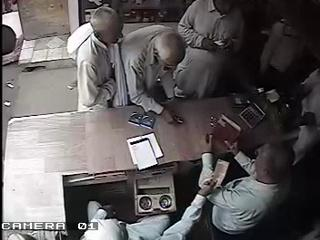Normal: (156, 129, 295, 240), (174, 0, 246, 100), (116, 24, 186, 124)
shoplifting: (66, 6, 125, 112)
